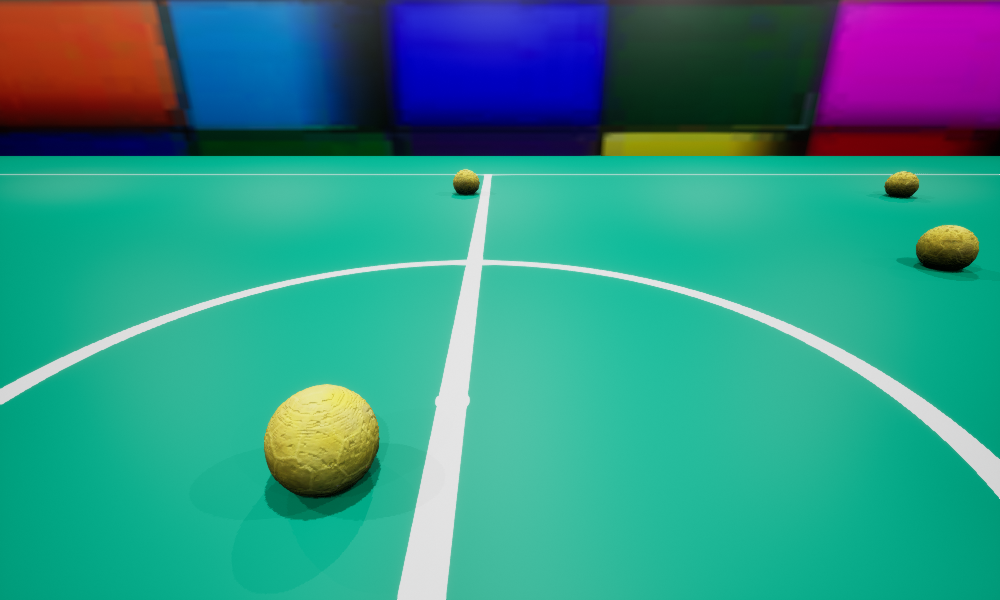b: (264, 384, 379, 496), (916, 225, 978, 270), (884, 171, 918, 197), (453, 169, 479, 194)
